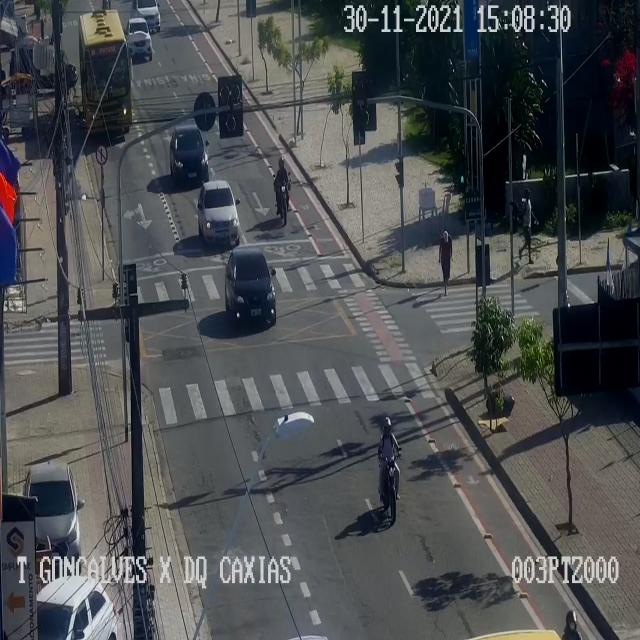Bus: (78, 9, 132, 131)
Car: (24, 463, 80, 573), (36, 576, 116, 639), (224, 249, 276, 324), (9, 44, 76, 92), (197, 180, 239, 244), (170, 126, 208, 182), (125, 18, 152, 58), (133, 0, 162, 35)
Motorcycle: (377, 417, 400, 522), (274, 156, 290, 224), (100, 0, 112, 18)
